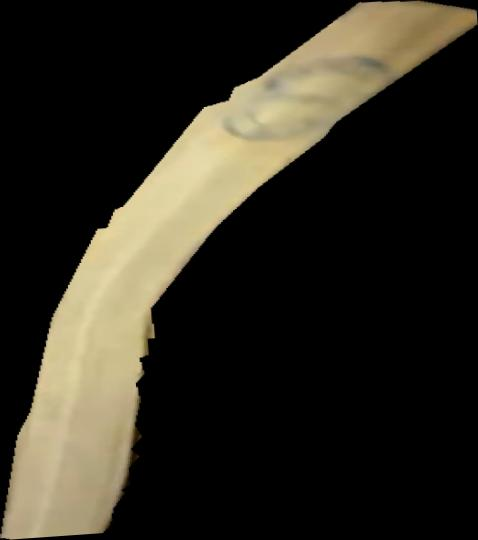backward: (1, 1, 478, 540)
